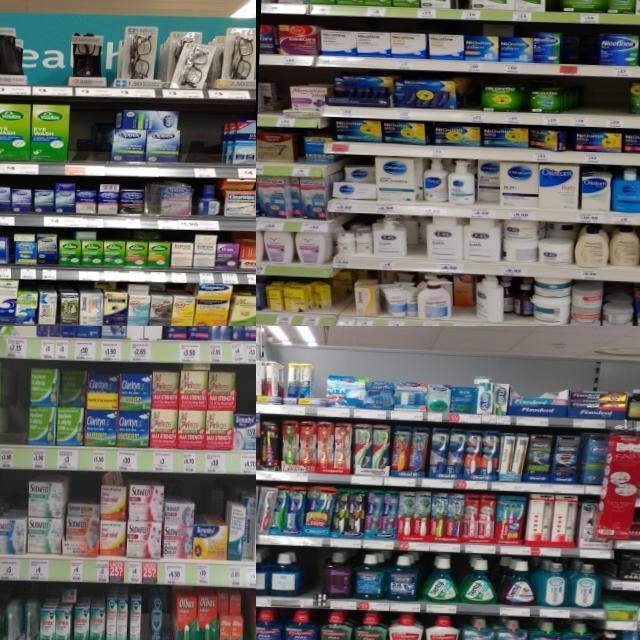Imprecise: (58, 368, 86, 448), (536, 220, 576, 270), (170, 42, 214, 86), (502, 276, 536, 323), (486, 19, 520, 62), (333, 165, 376, 197), (448, 274, 479, 318), (474, 160, 502, 205), (404, 217, 429, 257)
